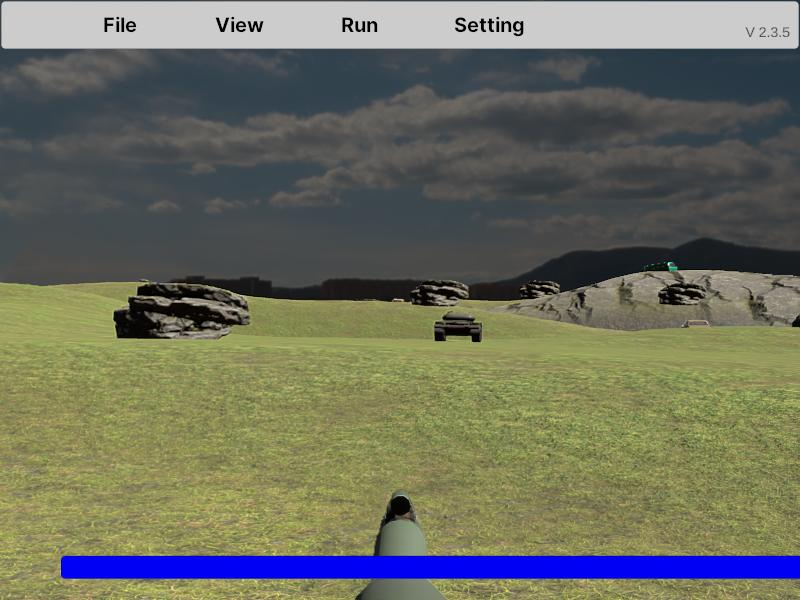Tank: (434, 312, 483, 343)
